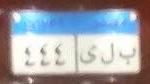4: (52, 41, 68, 69), (38, 40, 52, 69), (22, 42, 37, 69)
baa: (119, 45, 138, 67)
laam: (99, 40, 115, 68)
yaa: (79, 42, 97, 69)
